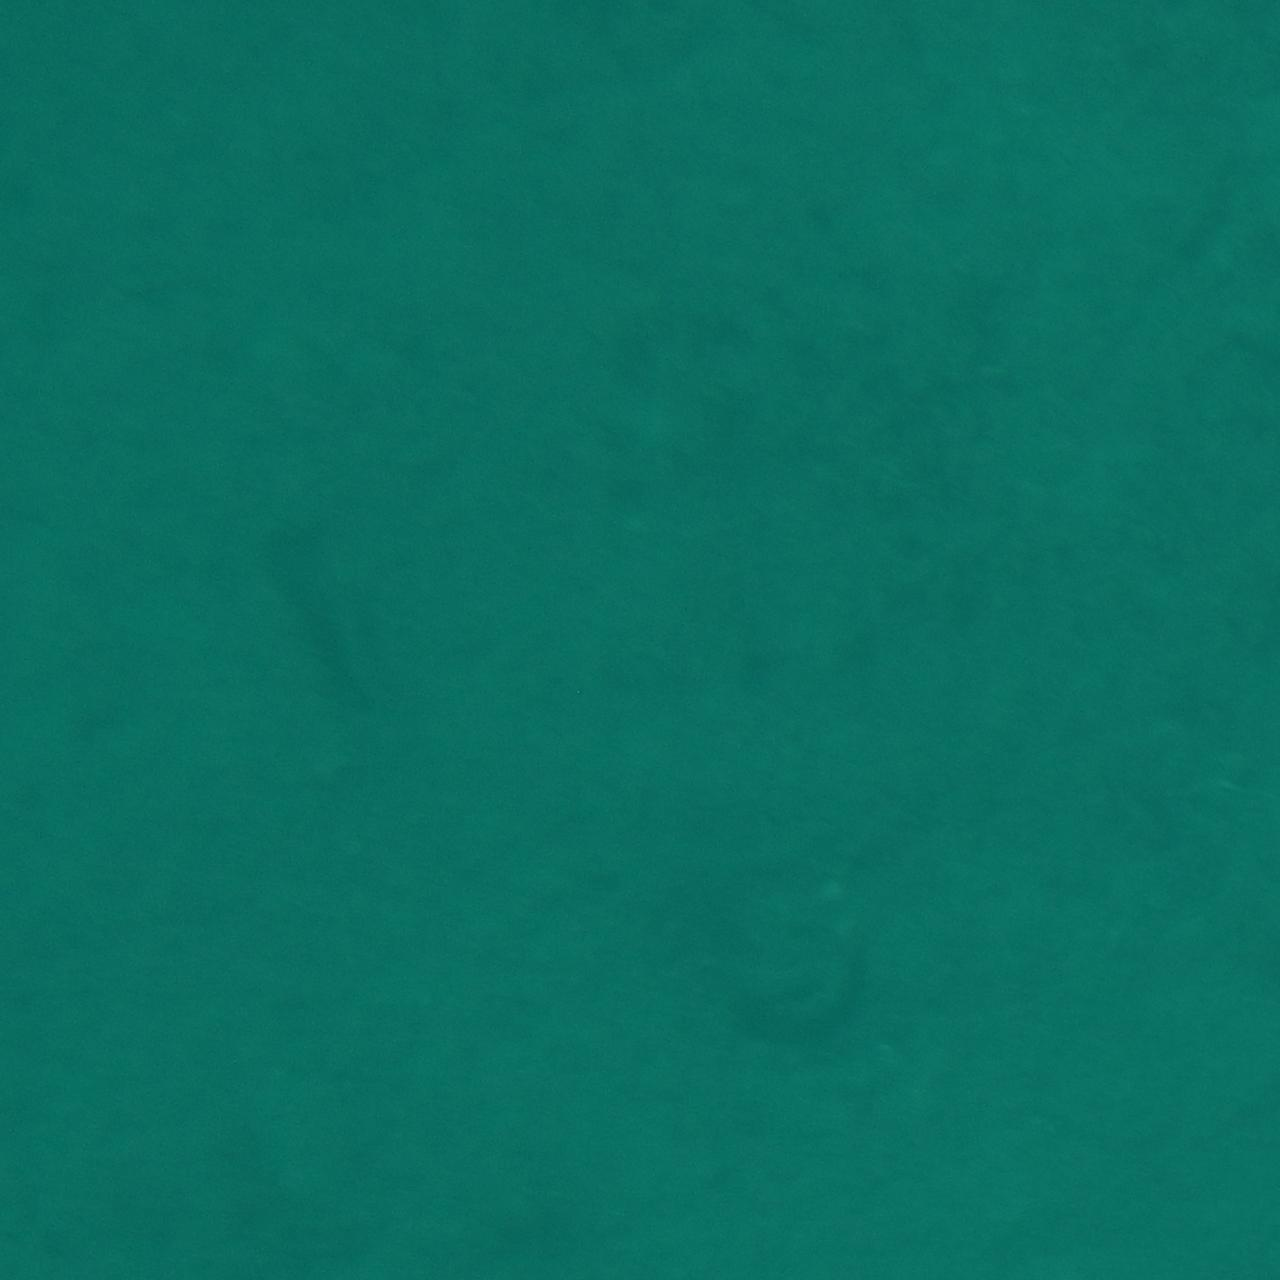Holothuria tubulosa: (252, 488, 389, 792)
